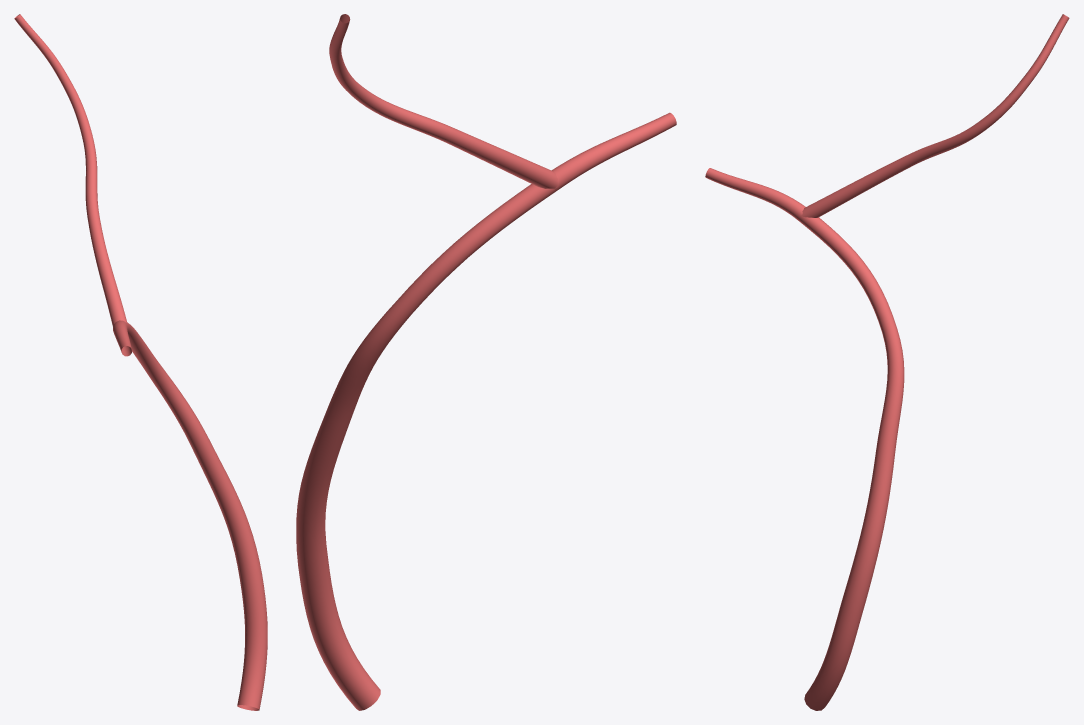
Rendered from Superficial_branch_of_transverse_cervical_artery.l_BezierCurve..glb.
3 views of the same model, side by side, from view 1: azimuth 30°, elevation 25°; view 2: azimuth 150°, elevation 25°; view 3: azimuth 270°, elevation 25° (orthographic). The views are drawn at different scales.
Parts seen in each view (by area): view 1: Superficial_branch_of_transverse_cervical_artery.l_BezierCur; view 2: Superficial_branch_of_transverse_cervical_artery.l_BezierCur; view 3: Superficial_branch_of_transverse_cervical_artery.l_BezierCur.
Part boxes in pixels (x1=…): Superficial_branch_of_transverse_cervical_artery.l_BezierCur: x1=14, y1=14, x2=267, y2=710; Superficial_branch_of_transverse_cervical_artery.l_BezierCur: x1=296, y1=14, x2=676, y2=710; Superficial_branch_of_transverse_cervical_artery.l_BezierCur: x1=705, y1=14, x2=1069, y2=710.
Bounding box in the file's own units: 0.0157 × 0.045 × 0.0232.
